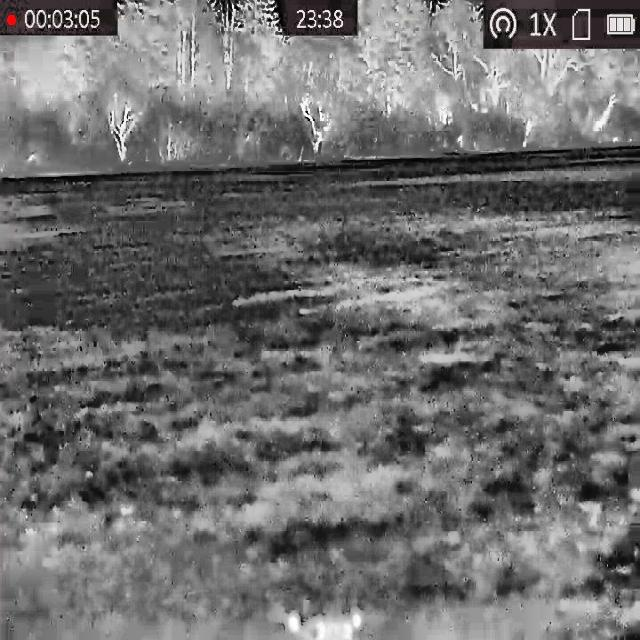drone: (276, 602, 369, 640)
